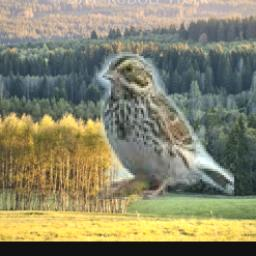Sparrow: (97, 53, 235, 201)
